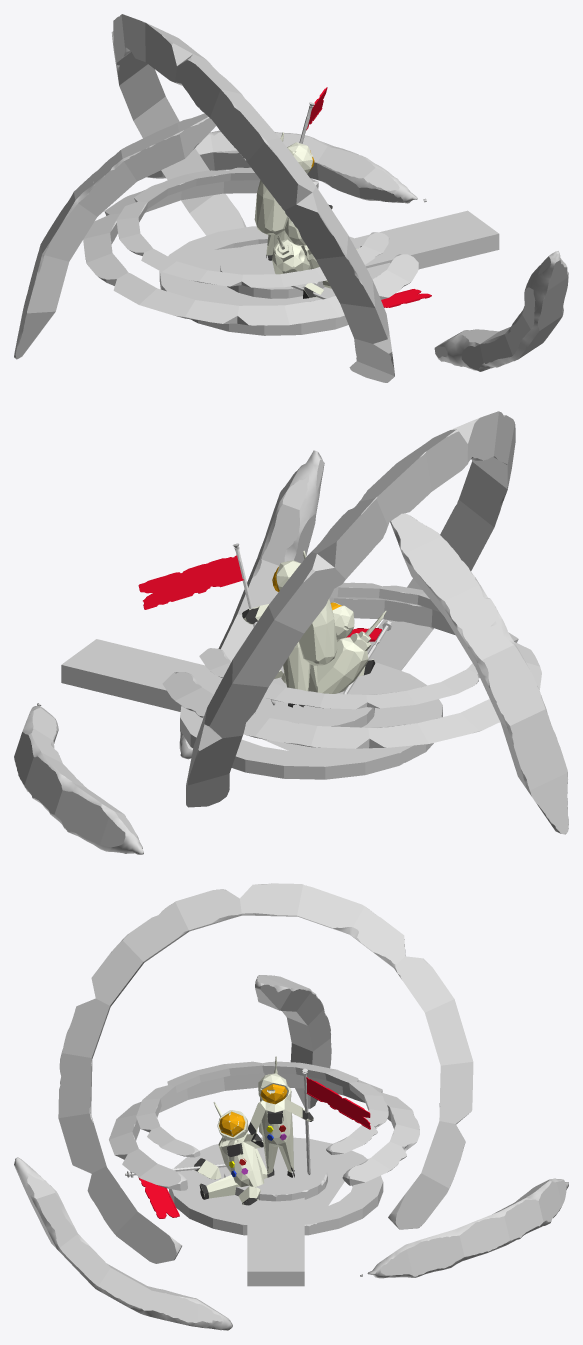
The model's file is 宇航员遗迹破损.fbx.
The picture shows the model from 3 angles, top to bottom: view 1: azimuth 30°, elevation 25°; view 2: azimuth 150°, elevation 25°; view 3: azimuth 270°, elevation 25°; orthographic projection. The views are drawn at different scales.
Visible parts, largest first — view 1: 大外环, 中柱子_dmg, 内环_dmg.001, 内环_dmg, 左柱子_dmg, 圆环地盘, 右柱子_dmg, 路, 圆形底盘, 背_dmg, 背.001_dmg, Plane.001_dmg (+1 smaller); view 2: 大外环, 中柱子_dmg, 内环_dmg.001, 圆环地盘, 右柱子_dmg, 左柱子_dmg, 路, 内环_dmg, Plane.007_dmg, 圆形底盘, 背.001_dmg, 背_dmg (+2 smaller); view 3: 大外环, 圆环地盘, 左柱子_dmg, 内环_dmg.001, 右柱子_dmg, 内环_dmg, 路, 中柱子_dmg, 圆形底盘, 身子_dmg, 身子.001_dmg, Plane.007_dmg (+4 smaller).
Part boxes in pixels (left/top/right/bottom): 大外环: left=111, top=14, right=394, bottom=382; 中柱子_dmg: left=14, top=113, right=216, bottom=359; 内环_dmg.001: left=83, top=178, right=419, bottom=325; 内环_dmg: left=116, top=167, right=389, bottom=287; 左柱子_dmg: left=434, top=251, right=568, bottom=371; 圆环地盘: left=159, top=226, right=390, bottom=335; 右柱子_dmg: left=146, top=130, right=426, bottom=203; 路: left=350, top=210, right=499, bottom=269; 圆形底盘: left=220, top=243, right=324, bottom=298; 背_dmg: left=254, top=132, right=288, bottom=234; 背.001_dmg: left=272, top=235, right=310, bottom=274; Plane.001_dmg: left=381, top=289, right=431, bottom=307; 大外环: left=186, top=411, right=515, bottom=807; 中柱子_dmg: left=390, top=513, right=568, bottom=834; 内环_dmg.001: left=162, top=597, right=541, bottom=748; 圆环地盘: left=180, top=662, right=442, bottom=779; 右柱子_dmg: left=14, top=703, right=143, bottom=854; 左柱子_dmg: left=179, top=450, right=324, bottom=759; 路: left=61, top=639, right=222, bottom=711; 内环_dmg: left=199, top=582, right=479, bottom=709; Plane.007_dmg: left=138, top=555, right=243, bottom=609; 圆形底盘: left=255, top=677, right=374, bottom=727; 背.001_dmg: left=317, top=611, right=386, bottom=693; 背_dmg: left=298, top=550, right=337, bottom=665; 大外环: left=58, top=883, right=473, bottom=1263; 圆环地盘: left=169, top=1137, right=383, bottom=1235; 左柱子_dmg: left=14, top=1157, right=232, bottom=1330; 内环_dmg.001: left=109, top=1072, right=419, bottom=1190; 右柱子_dmg: left=360, top=1178, right=568, bottom=1278; 内环_dmg: left=136, top=1061, right=388, bottom=1157; 路: left=247, top=1197, right=304, bottom=1286; 中柱子_dmg: left=255, top=975, right=331, bottom=1108; 圆形底盘: left=224, top=1151, right=327, bottom=1201; 身子_dmg: left=248, top=1098, right=313, bottom=1177; 身子.001_dmg: left=221, top=1133, right=264, bottom=1186; Plane.007_dmg: left=306, top=1077, right=370, bottom=1129.
Bounding box in the file's own units: 5870 × 4545 × 6854.
